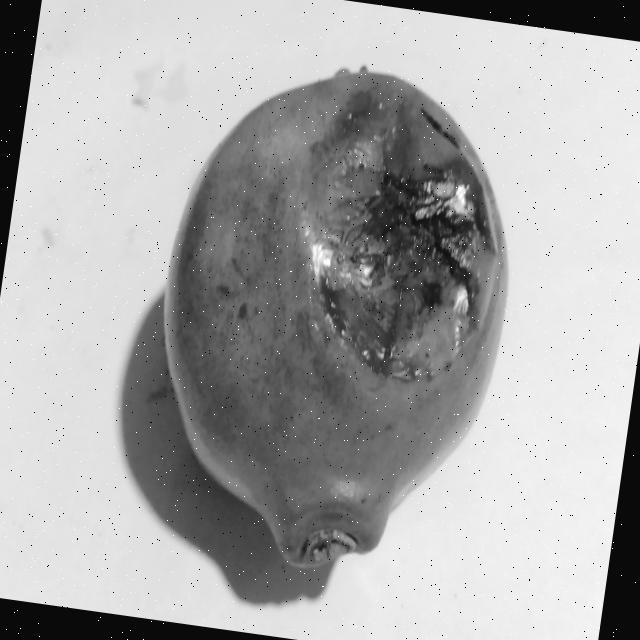Rotten: (132, 42, 538, 596)
